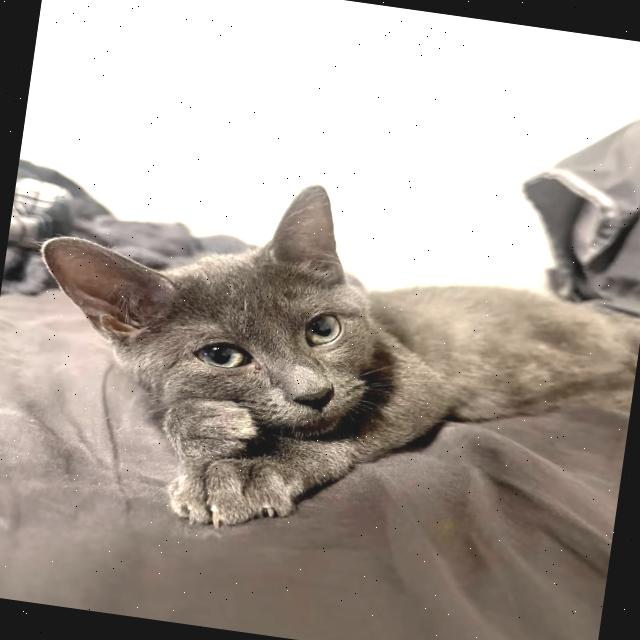russian_blue_cat: (14, 142, 408, 462)
